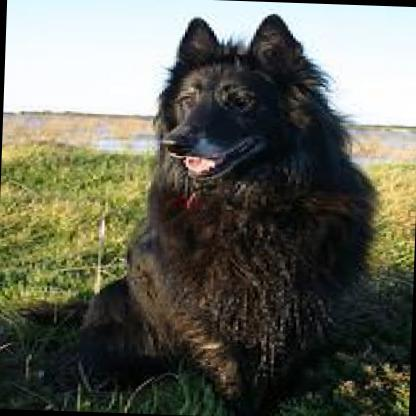groenendael: (19, 2, 391, 416)
